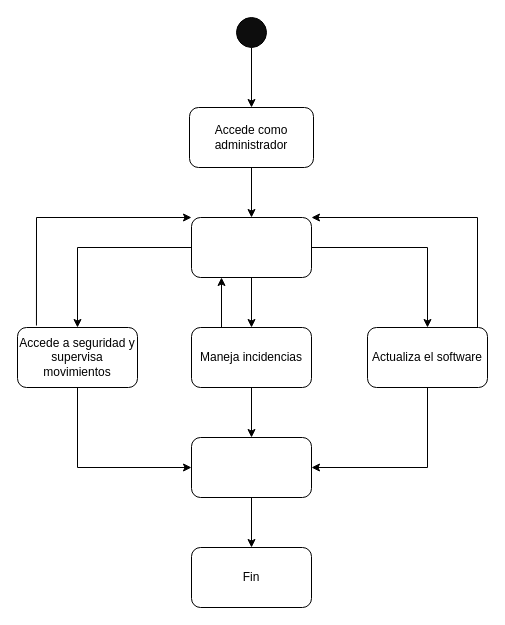
Some shapes in this 505 by 625 pixel diagram are drawn without their labels. The shapes that lost their labels are listed below. From the top down, each one's centre as x and y in pixels, then its label:
At point (251, 247): "Accede a un menu donde elige opciones de la web".
At point (251, 467): "Hace cambios".
